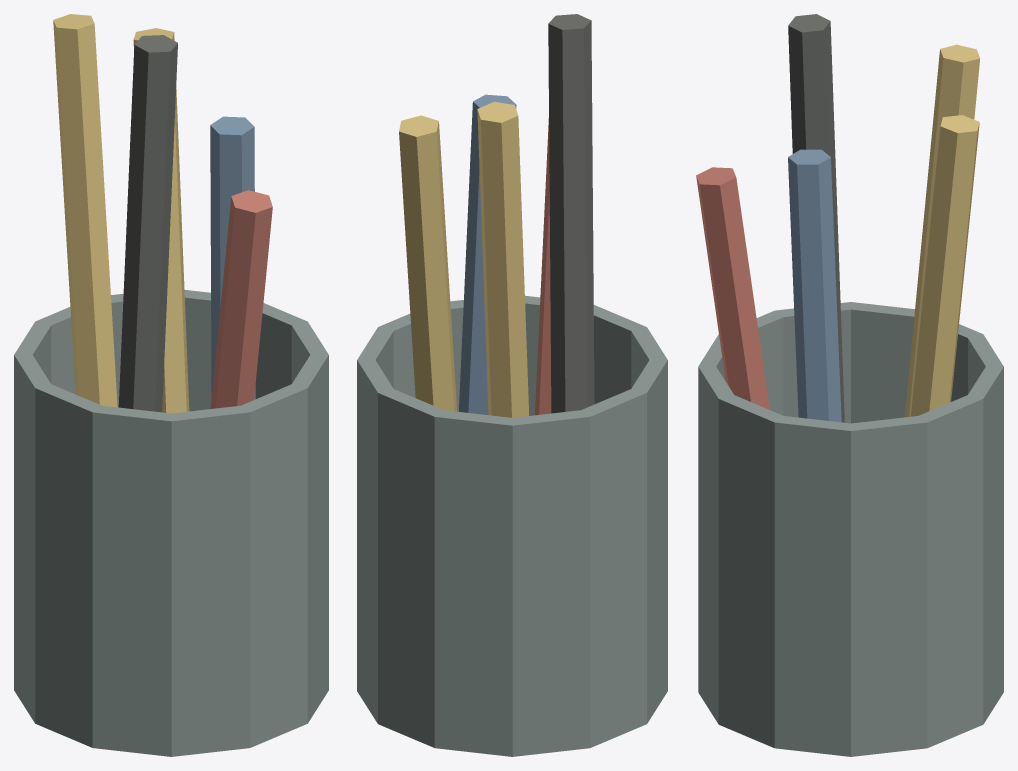
File: lab_pencil_holder.glb
3 views of the same model, side by side, from view 1: azimuth 30°, elevation 25°; view 2: azimuth 150°, elevation 25°; view 3: azimuth 270°, elevation 25° (orthographic). The views are drawn at different scales.
Visible parts, largest first — view 1: lab_pencil_holder; view 2: lab_pencil_holder; view 3: lab_pencil_holder.
Boxes of the visible parts, x1,y1,x2,y2 form: lab_pencil_holder: (14,14,328,756); lab_pencil_holder: (357,14,667,756); lab_pencil_holder: (696,14,1003,756).
Size of the model in its own units: 0.17 by 0.4004 by 0.1712.
